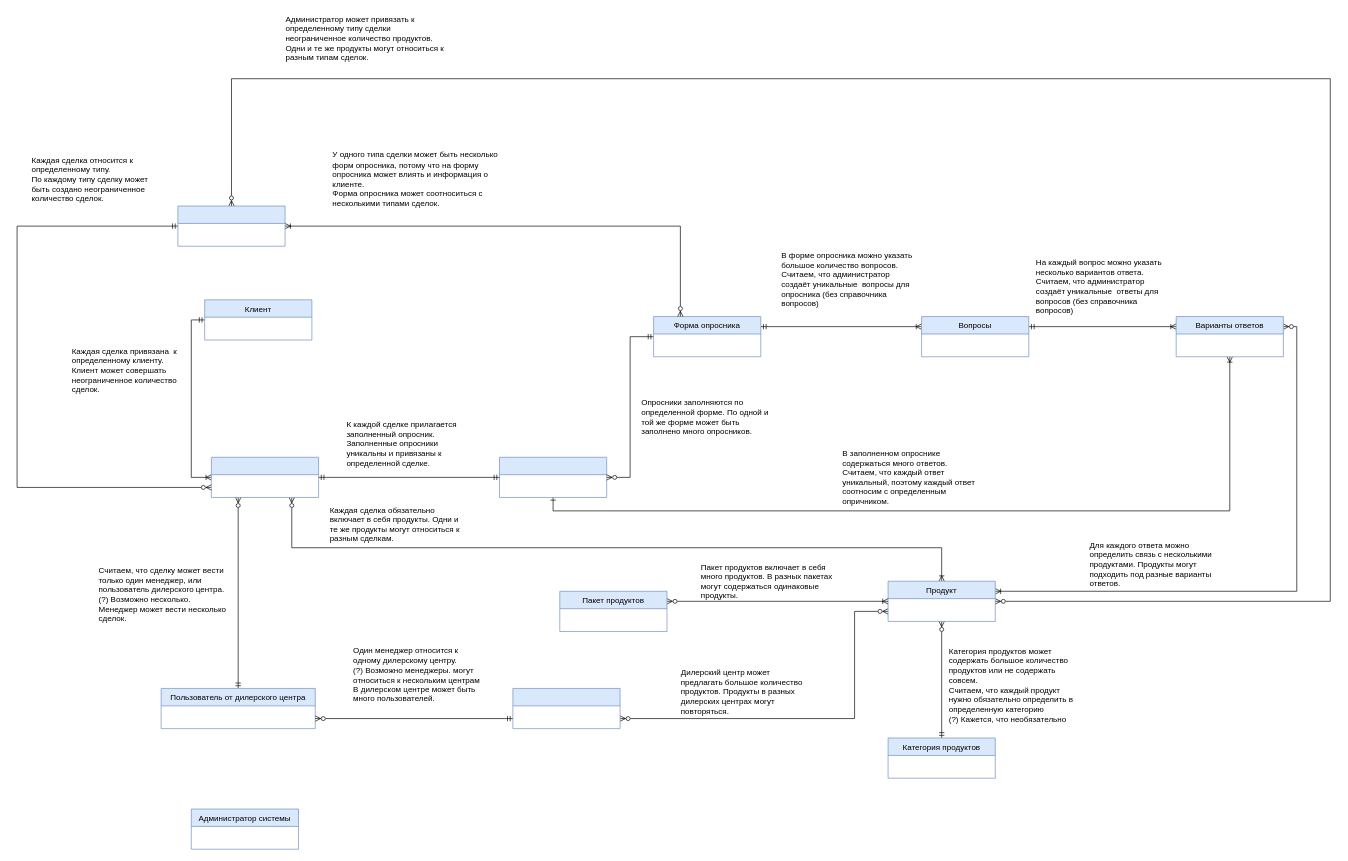
The diagram is 1348 pixels wide and 861 high, and some of its shapes have lost their labels. The shapes that lost their labels are listed below. From the top down, each one's centre as x and y in pixels, then its label:
pixel 231 225: Тип сделки
pixel 265 477: Сделка
pixel 553 477: Заполненный опросник
pixel 566 708: Дилерский центр
